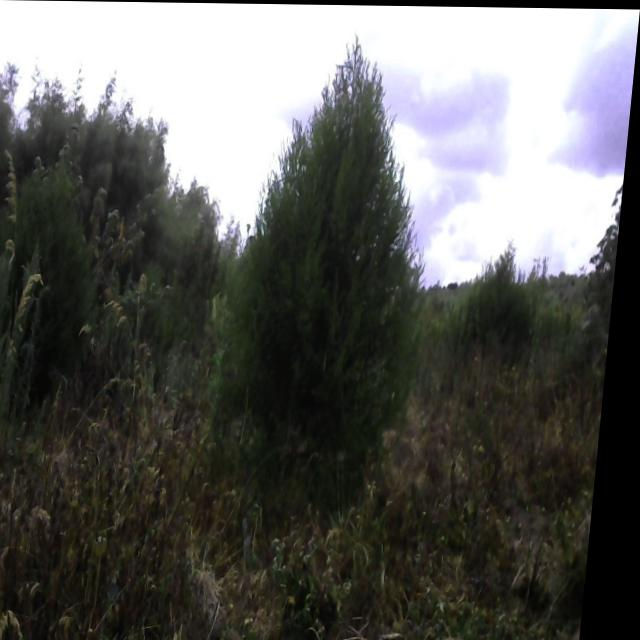cedrus: (205, 28, 456, 516), (4, 167, 110, 408), (478, 231, 544, 352)
